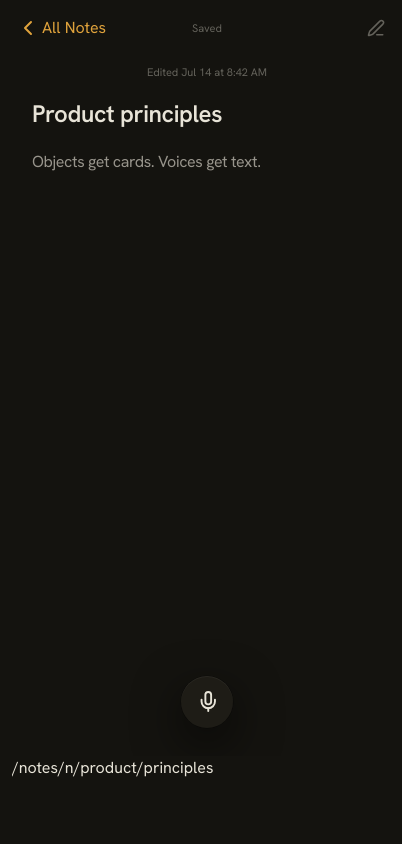
Test case: Notes page › normalizes a note-only mobile direct link back to the All Notes list
Expected: the field showing "Product principles" is shown, [32,100,382,128]
Click the button with aria-label "Back to All Notes".
click(61, 28)  # box [16,16,106,40]
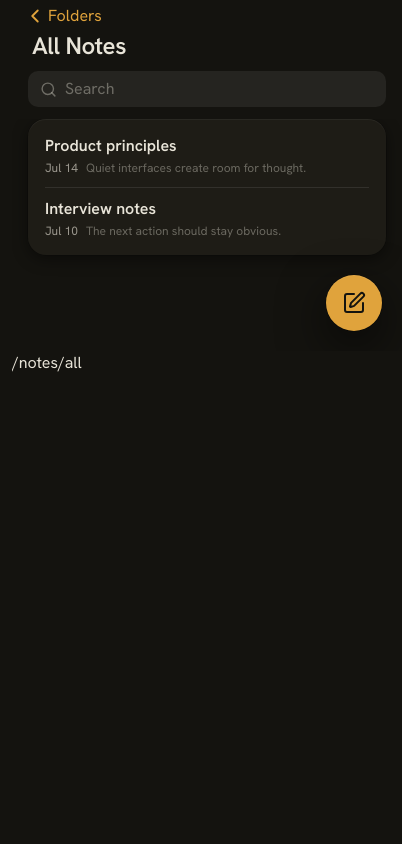
Expected: the heading "All Notes" is shown, [32,30,126,60]
Now the text with test id "location" reads "/notes/all", box [12,352,82,373]
